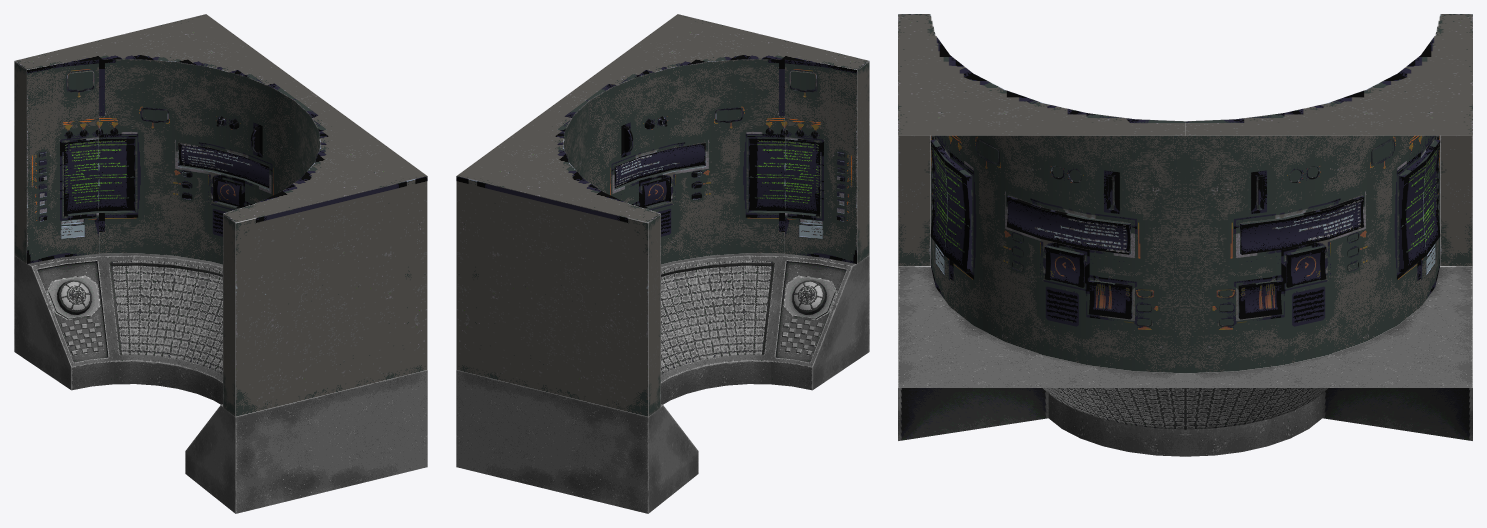
The model's file is SM_Cockpitcomputer.glb.
3 views of the same model, side by side, from view 1: azimuth 30°, elevation 25°; view 2: azimuth 150°, elevation 25°; view 3: azimuth 270°, elevation 25° (orthographic). The views are drawn at different scales.
Parts seen in each view (by area): view 1: Cylinder.001, Cylinder.007; view 2: Cylinder.001, Cylinder.007; view 3: Cylinder.001, Cylinder.007.
Boxes of the visible parts, x1=… form: Cylinder.001: x1=14, y1=14, x2=427, y2=416; Cylinder.007: x1=14, y1=253, x2=427, y2=513; Cylinder.001: x1=456, y1=14, x2=869, y2=416; Cylinder.007: x1=456, y1=253, x2=869, y2=513; Cylinder.001: x1=898, y1=14, x2=1472, y2=373; Cylinder.007: x1=898, y1=266, x2=1472, y2=456.
Bounding box in the file's own units: 5.3 × 7.68 × 10.57.
2 materials, 2 textured.
